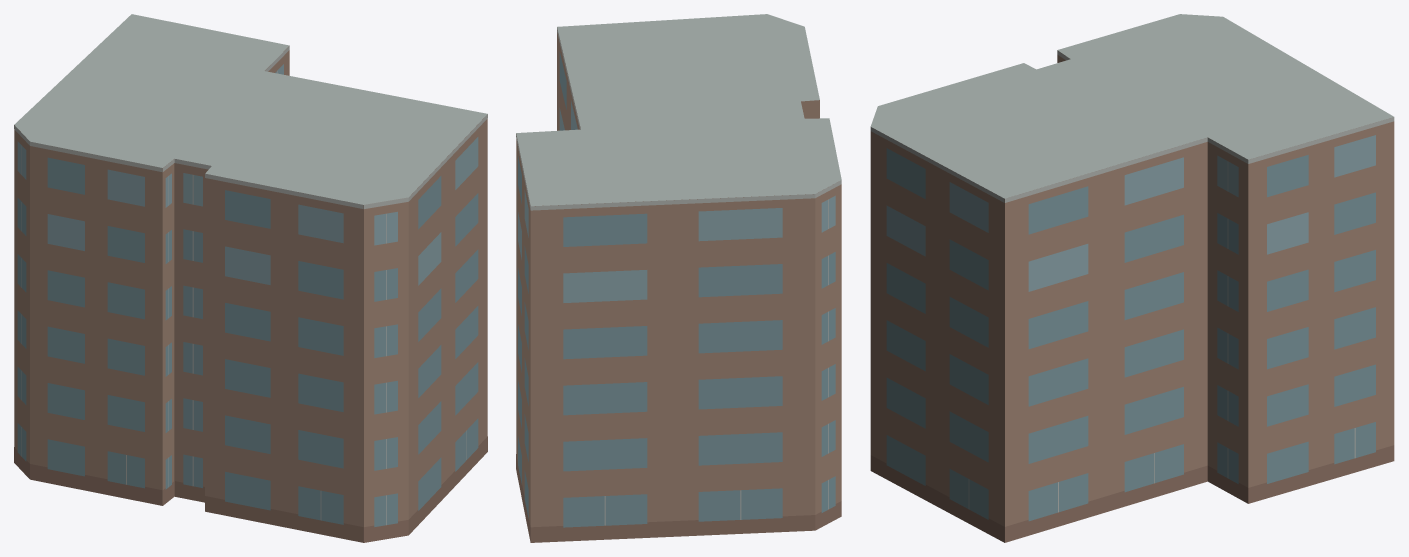
File: survey-upis-32604629.glb
3 views of the same model, side by side, from view 1: azimuth 30°, elevation 25°; view 2: azimuth 150°, elevation 25°; view 3: azimuth 270°, elevation 25° (orthographic). The views are drawn at different scales.
Parts seen in each view (by area): view 1: survey-upis-32604629.tmp; view 2: survey-upis-32604629.tmp; view 3: survey-upis-32604629.tmp.
Boxes of the visible parts, box(x1,y1,x2,y2) form: survey-upis-32604629.tmp: box(14, 14, 487, 542); survey-upis-32604629.tmp: box(516, 14, 841, 542); survey-upis-32604629.tmp: box(870, 14, 1394, 542).
Size of the model in its own units: 22.11 by 19.2 by 26.5.
